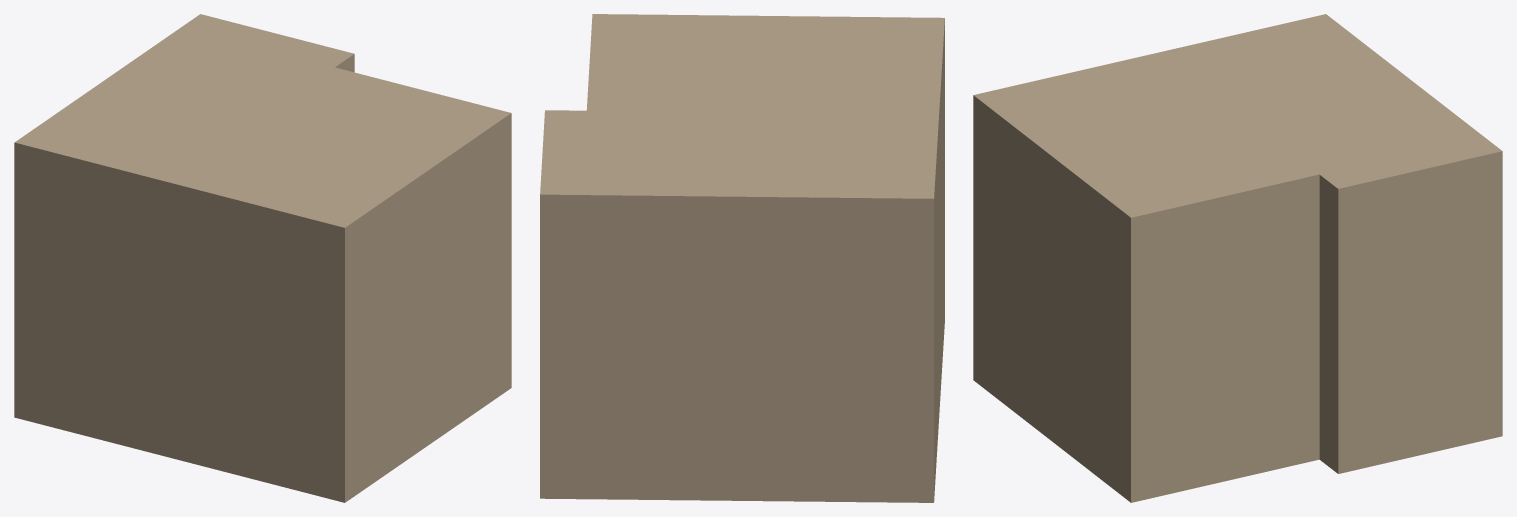
Rendered from bld_106306830.dae.
The picture shows the model from 3 angles, left to right: view 1: azimuth 30°, elevation 25°; view 2: azimuth 150°, elevation 25°; view 3: azimuth 270°, elevation 25°; orthographic projection. The views are drawn at different scales.
Visible parts, largest first — view 1: bld_106306830; view 2: bld_106306830; view 3: bld_106306830.
Boxes of the visible parts, x1=… form: bld_106306830: x1=14, y1=14, x2=511, y2=502; bld_106306830: x1=540, y1=14, x2=944, y2=502; bld_106306830: x1=973, y1=14, x2=1502, y2=502.
Bounding box in the file's own units: 12.27 × 13.46 × 8.
